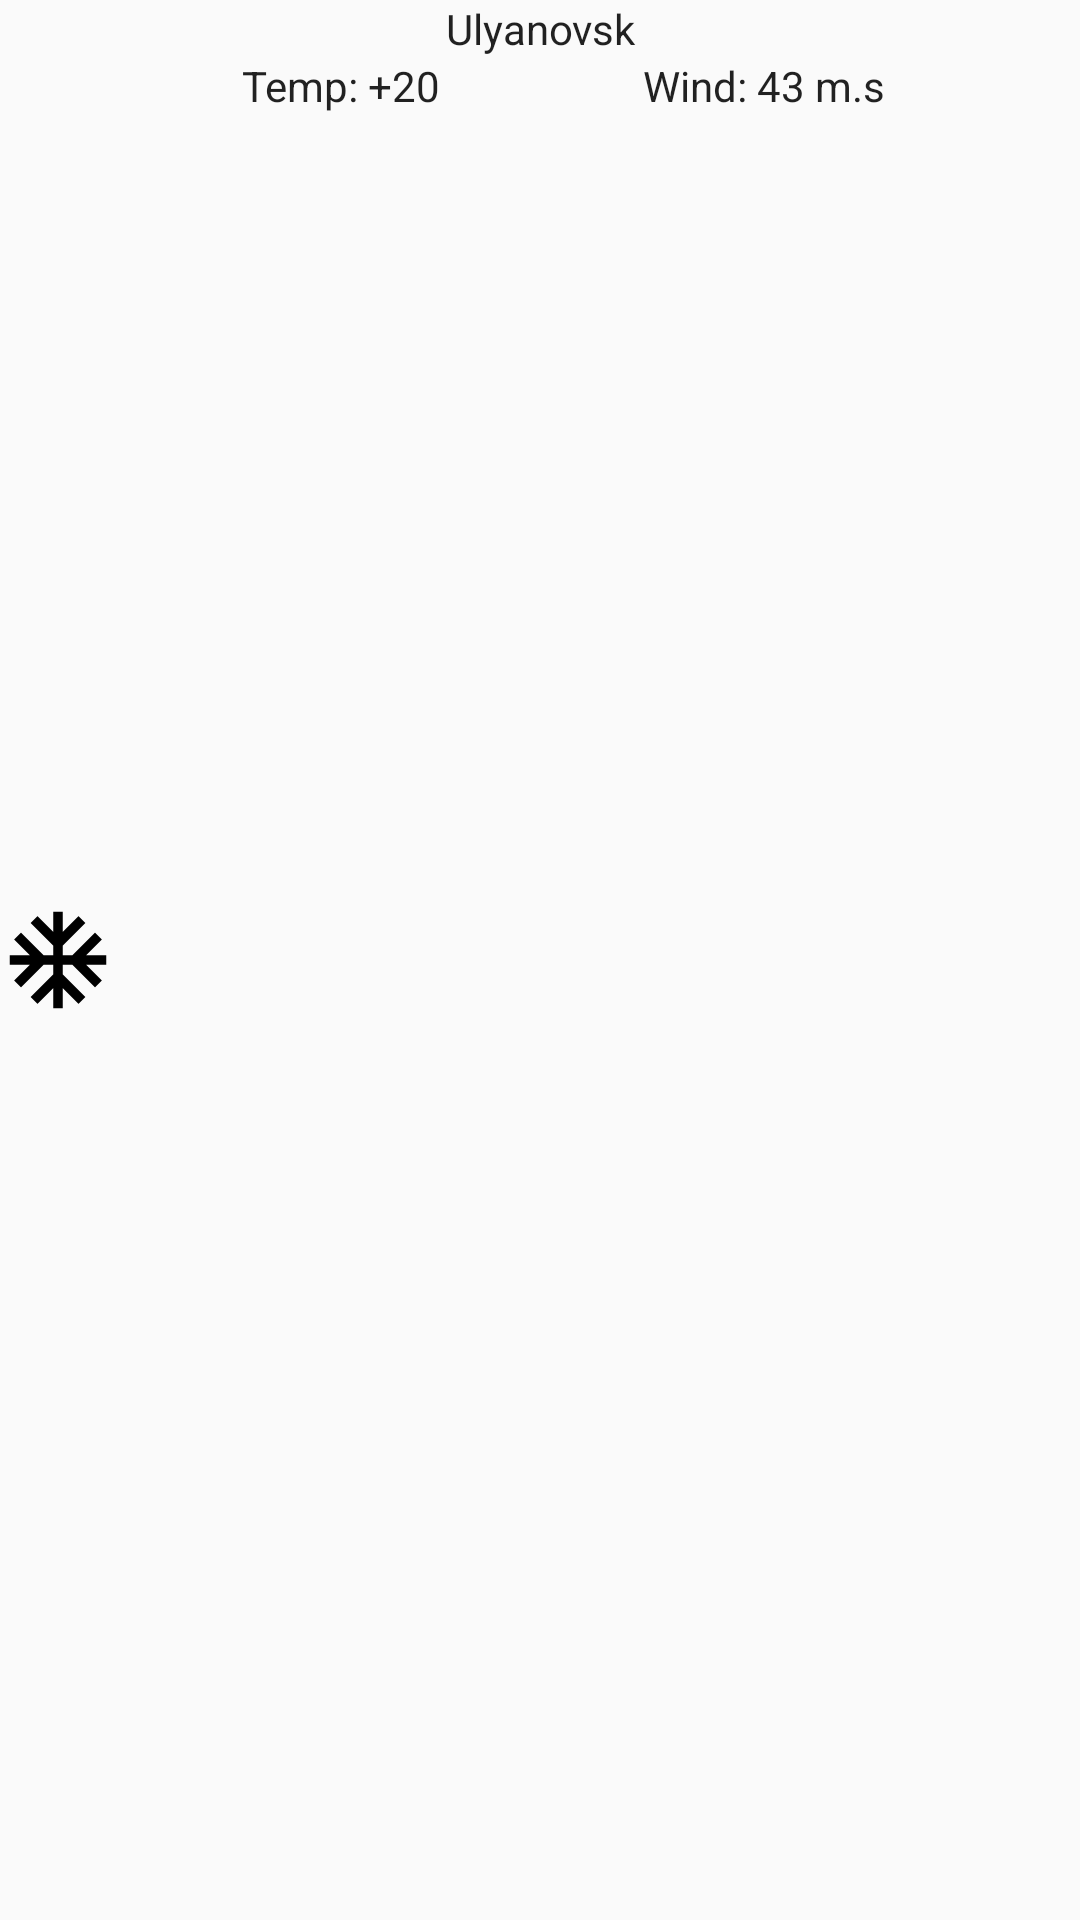

Point at icon controls on the screen. Image size 1080*1920, points as point (x, y).
ac unit: point (58, 960)
